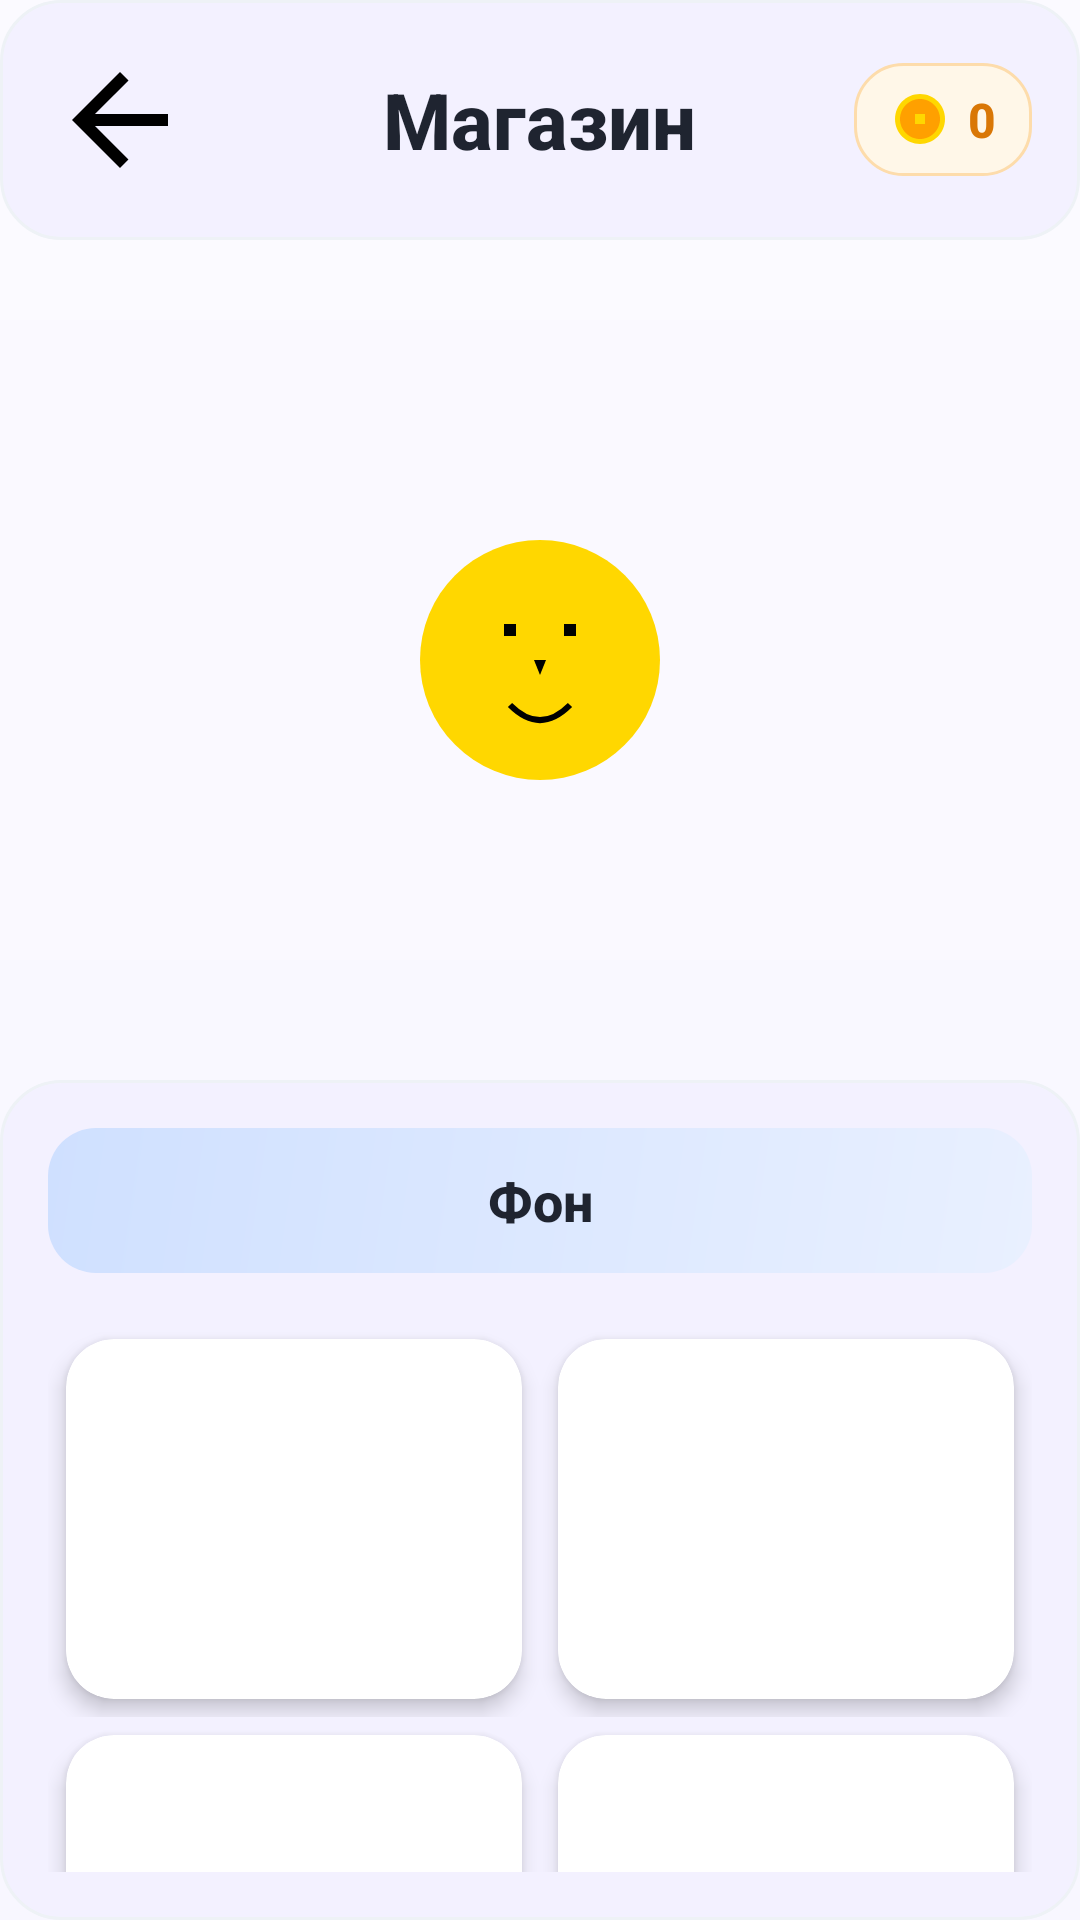

Named icons in this screenshot (1080px×1920px) and their centers, point (x, y):
coin: point (920, 119)
Назад: point (120, 120)
